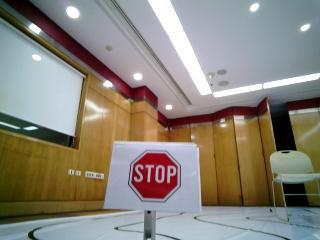stop: (117, 142, 185, 198)
